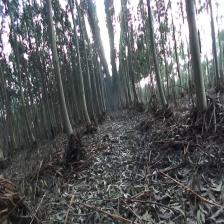trunk: (46, 10, 72, 139), (185, 3, 207, 110), (148, 13, 167, 108), (74, 32, 91, 127), (210, 14, 220, 88)
